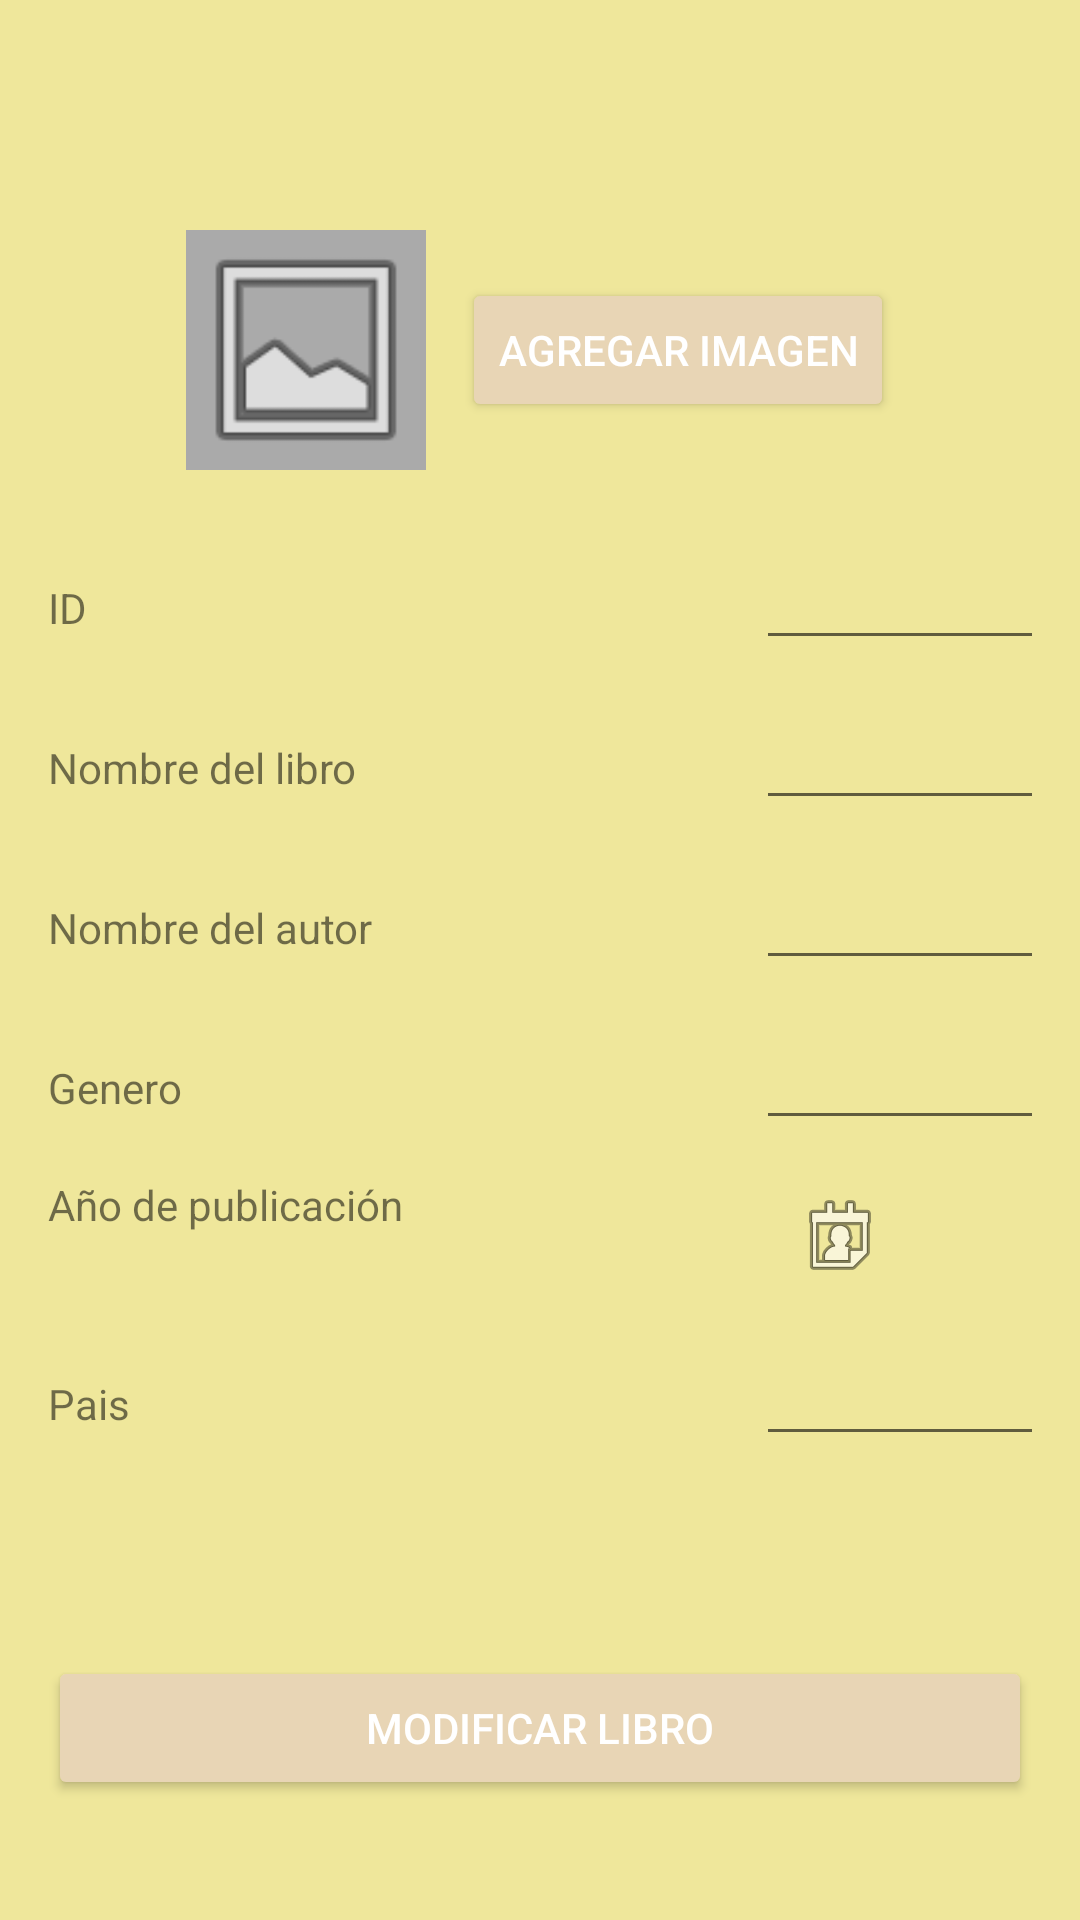

Locate icon controls on the screen. Image size 1080 x 1920, boxes as Rect(x1, y1, x2, y2).
calendar: Rect(809, 1200, 871, 1270)
gallery: Rect(186, 230, 426, 470)
